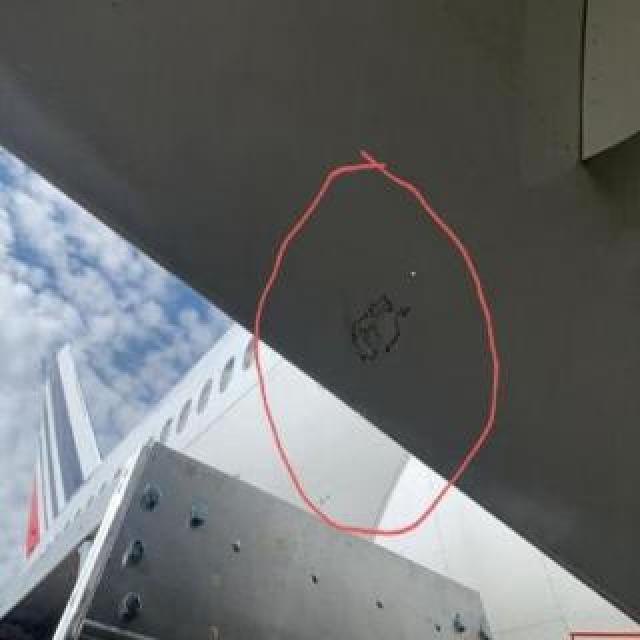crack: (353, 303, 399, 357)
